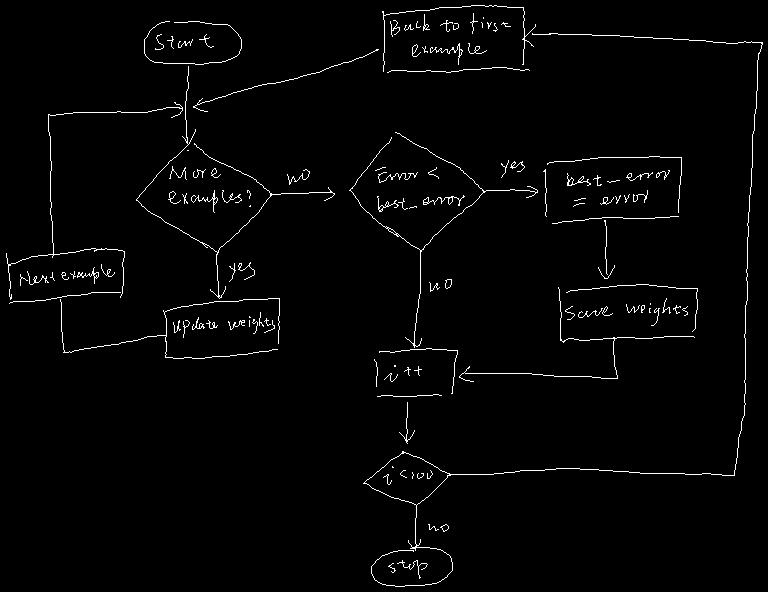arrow: (447, 24, 762, 475), (48, 102, 182, 257), (193, 49, 378, 111), (459, 337, 617, 381), (60, 299, 165, 352), (405, 250, 421, 347), (182, 66, 195, 144), (598, 220, 614, 278), (270, 187, 334, 200), (210, 253, 225, 298), (399, 402, 414, 443), (484, 186, 537, 197), (408, 505, 420, 550)
decision: (349, 132, 484, 251), (136, 143, 271, 253), (363, 451, 449, 504), (248, 204, 251, 207)
process: (382, 5, 529, 72), (543, 156, 681, 223), (558, 284, 697, 342), (163, 298, 279, 358), (6, 248, 124, 303), (374, 348, 457, 396)
terminator: (144, 21, 241, 64), (371, 547, 452, 586)
text: (390, 13, 510, 64), (375, 167, 464, 211), (168, 166, 250, 212), (567, 170, 669, 206), (565, 298, 687, 325), (173, 312, 274, 337), (20, 264, 114, 285), (383, 466, 432, 484), (155, 34, 213, 49), (388, 560, 427, 578), (384, 365, 421, 381), (229, 262, 254, 281), (501, 160, 524, 177), (287, 169, 309, 184), (429, 279, 451, 291), (428, 524, 448, 531), (186, 148, 189, 151)
